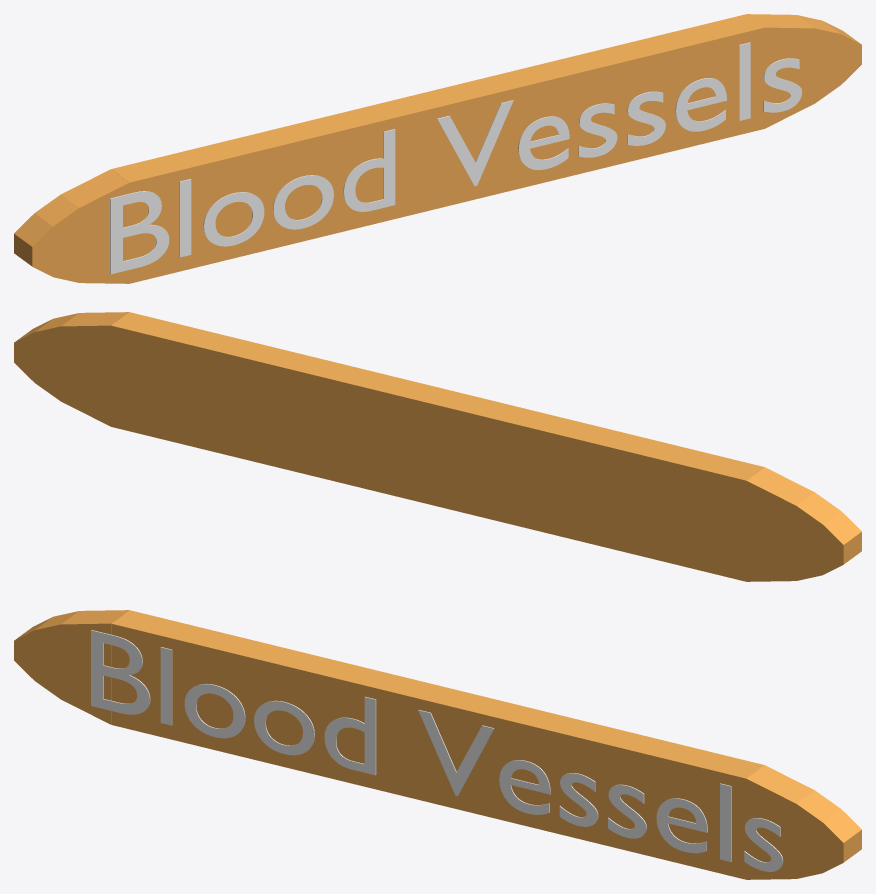
File: txtBloodVessel.fbx
3 views of the same model, one above another, from view 1: azimuth 30°, elevation 25°; view 2: azimuth 150°, elevation 25°; view 3: azimuth 330°, elevation 25° (orthographic).
Parts seen in each view (by area): view 1: TagContainer.032, Text.033; view 2: TagContainer.032; view 3: TagContainer.032, Text.033.
Boxes of the visible parts, left/top/right/bottom form: TagContainer.032: left=14, top=14, right=861, bottom=283; Text.033: left=110, top=42, right=801, bottom=274; TagContainer.032: left=14, top=312, right=861, bottom=581; TagContainer.032: left=14, top=610, right=861, bottom=879; Text.033: left=91, top=630, right=783, bottom=871.
Bounding box in the file's own units: 354 × 41.3 × 14.03.
